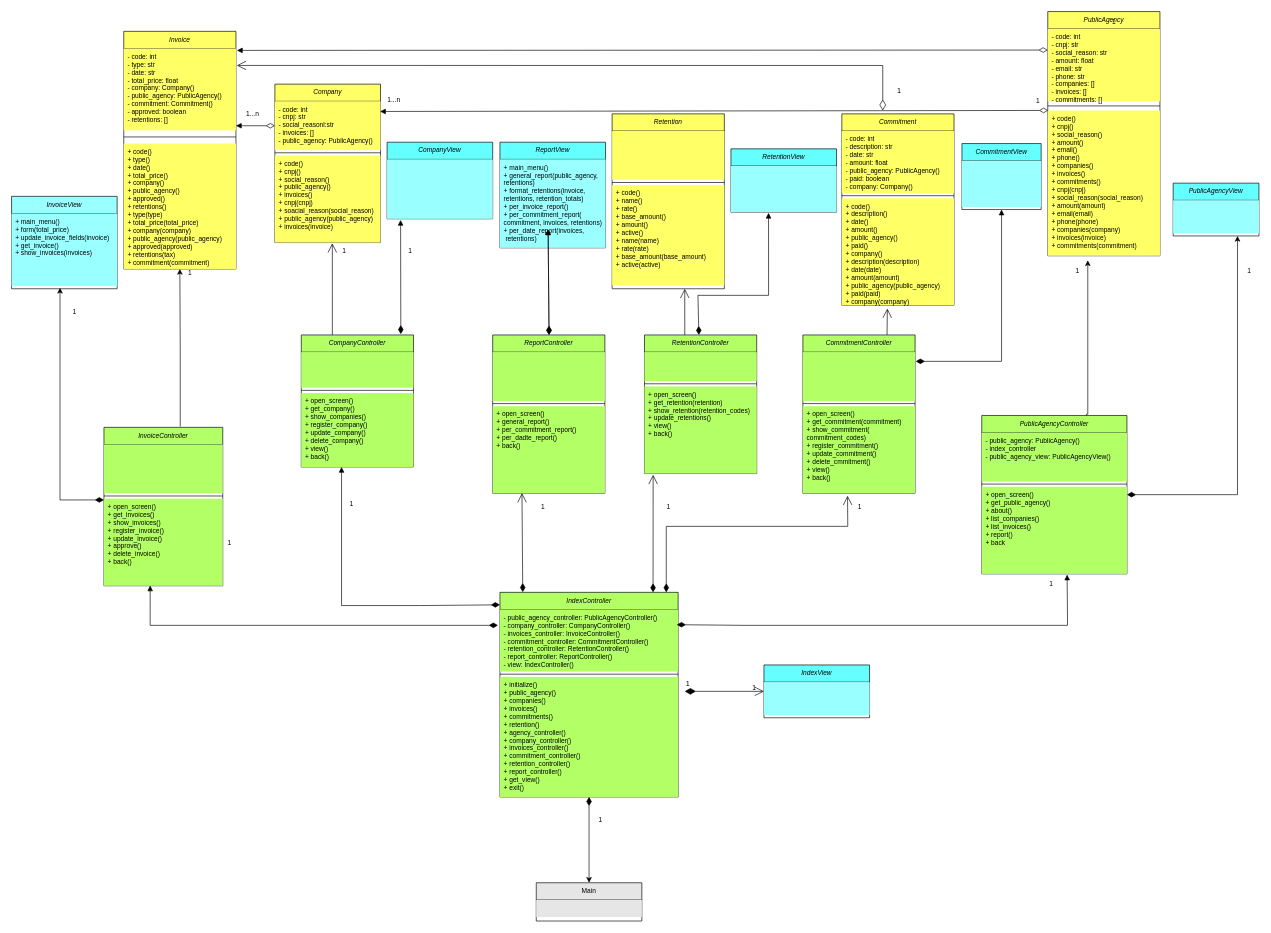
Image size: 1271x933. Some labels were removed from this diagram. The shapes that lost their labels are listed below. From the top down, each one's centre as x and y in pixels, then its label:
At (668,155): "- code: int - name: str - rate: float - base_amount: float - active: int".
At (439,188): "+ main_menu() + form() + get_company() + show_companies(companies)".
At (783,189): "+ main_menu() + get_retention() + form() + show_retentions(retentions)".
At (1001,183): "+ main_menu() + form() + get_commitment() + show_commitments( commitments)".
At (1216,216): "+ main_menu() + show_publc_agency( agency_data)".
At (357,369): "- companies: [] - index_controller: int - company_view: CompanyView()".
At (548,376): "- index_controller - report_view: ReportView()".
At (700,366): "- retention_view: RetentionView() - index_controller".
At (859,376): "- commitments: [] - commitments_view: CommitmentView() - index_controller".
At (163,468): "- index_controller: int - invoice_view: InvoiceView() - invoices: []".
At (816,698): "+ main_menu() + show_message(msg)".
At (589,908): "+ initialize()".
